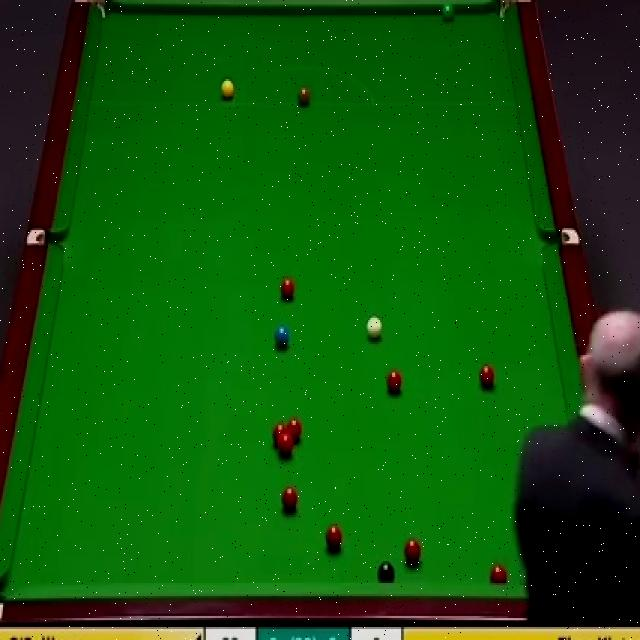black-ball: (377, 560, 394, 582)
blue-ball: (273, 325, 290, 349)
brown-ball: (296, 84, 312, 108)
green-ball: (441, 3, 456, 20)
pink-ball: (280, 273, 297, 302)
red-ball: (325, 522, 343, 554), (404, 536, 422, 566), (282, 485, 299, 513), (387, 368, 402, 397), (278, 433, 294, 458), (479, 364, 495, 388), (491, 564, 508, 584), (288, 417, 301, 442), (273, 424, 287, 438)
white-ball: (365, 314, 383, 342)
yellow-ball: (220, 78, 234, 100)
